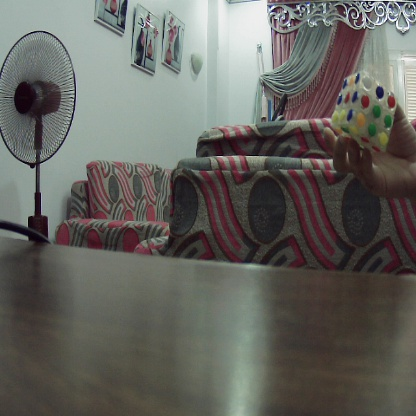Rubix Cube: (336, 77, 395, 144)
